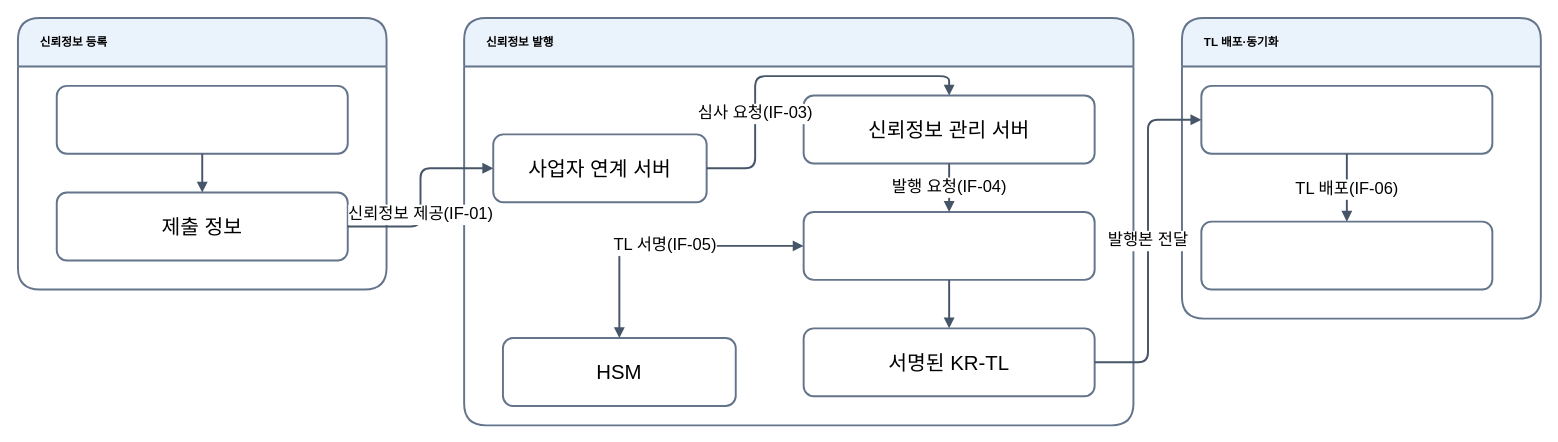
The diagram is 1558 pixels wide and 442 high, and some of its shapes have lost their labels. The shapes that lost their labels are listed below. From the top down, each one's centre as x and y in pixels, then its label:
At point 201,119: "인증사업자".
At point 1346,119: "배포 서비스(WAS)".
At point 948,245: "TL 발행 서버".
At point 1346,255: "배포 서비스(WEB)".
